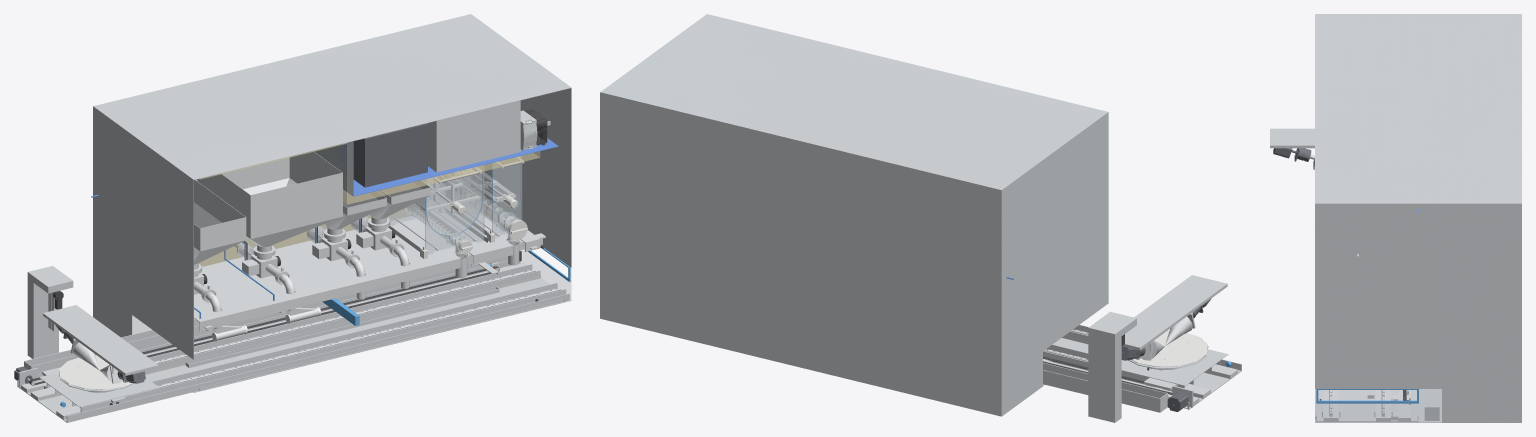
Rendered from modul_C.glb.
3 renders of one model, left to right at view 1: azimuth 30°, elevation 25°; view 2: azimuth 150°, elevation 25°; view 3: azimuth 270°, elevation 25°, orthographic. The views are drawn at different scales.
Visible parts, largest first — view 1: TOPPING_MODUL__sac, TOPPING_MODUL__paslanmaz, TOPPING_MODUL__cam, TOPPING_MODUL__celik, TOPPING_MODUL__motor, TOPPING_MODUL__yalitim_gorunur, TOPPING_MODUL__sac__ACICI, TOPPING_MODUL__ayirma_saci, TOPPING_MODUL__koyu, TOPPING_MODUL__sac__ARABA, TOPPING_MODUL__pom__TABLA, TOPPING_MODUL__silikon (+7 smaller); view 2: TOPPING_MODUL__sac, TOPPING_MODUL__sac__ACICI, TOPPING_MODUL__pom__TABLA, TOPPING_MODUL__sac__ARABA, TOPPING_MODUL__celik; view 3: TOPPING_MODUL__sac, C_SEFFAF__sag, TOPPING_MODUL__celik, TOPPING_MODUL__sac__ACICI, TOPPING_MODUL__silikon, TOPPING_MODUL__motor__ACICI.
Part boxes in pixels (x1,y1,x2,y2): TOPPING_MODUL__sac: [17, 14, 571, 422]; TOPPING_MODUL__paslanmaz: [194, 151, 540, 340]; TOPPING_MODUL__cam: [386, 156, 522, 256]; TOPPING_MODUL__celik: [21, 156, 561, 419]; TOPPING_MODUL__motor: [14, 123, 452, 383]; TOPPING_MODUL__yalitim_gorunur: [196, 141, 540, 266]; TOPPING_MODUL__sac__ACICI: [43, 305, 158, 375]; TOPPING_MODUL__ayirma_saci: [314, 138, 558, 196]; TOPPING_MODUL__koyu: [29, 109, 547, 405]; TOPPING_MODUL__sac__ARABA: [39, 372, 159, 407]; TOPPING_MODUL__pom__TABLA: [59, 355, 131, 389]; TOPPING_MODUL__silikon: [60, 163, 570, 407]; TOPPING_MODUL__sac: [600, 14, 1241, 422]; TOPPING_MODUL__sac__ACICI: [1122, 275, 1227, 350]; TOPPING_MODUL__pom__TABLA: [1131, 330, 1208, 366]; TOPPING_MODUL__sac__ARABA: [1121, 349, 1228, 385]; TOPPING_MODUL__celik: [1043, 329, 1237, 405]; TOPPING_MODUL__sac: [1315, 14, 1521, 422]; C_SEFFAF__sag: [1315, 209, 1441, 422]; TOPPING_MODUL__celik: [1323, 390, 1410, 421]; TOPPING_MODUL__sac__ACICI: [1270, 128, 1314, 148]; TOPPING_MODUL__silikon: [1316, 389, 1418, 403]; TOPPING_MODUL__motor__ACICI: [1273, 148, 1311, 161].
Bounding box in the file's own units: 2.42 × 0.97 × 1.01.
